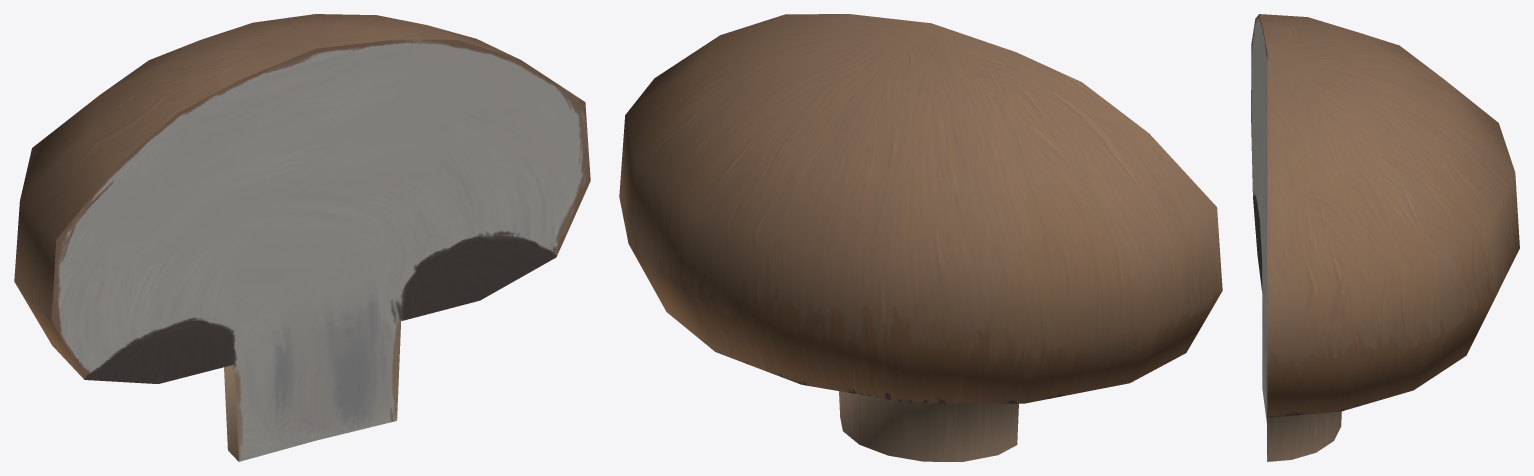
The model's file is Mushroom.gltf.
3 renders of one model, left to right at view 1: azimuth 30°, elevation 25°; view 2: azimuth 150°, elevation 25°; view 3: azimuth 270°, elevation 25°, orthographic. The views are drawn at different scales.
Visible parts, largest first — view 1: mushroom; view 2: mushroom; view 3: mushroom.
Part boxes in pixels (bbox=[...]): mushroom: bbox=[14, 14, 590, 461]; mushroom: bbox=[619, 14, 1222, 461]; mushroom: bbox=[1251, 14, 1519, 461].
Bounding box in the file's own units: 0.1032 × 0.0705 × 0.0464.
1 material, 1 textured.
